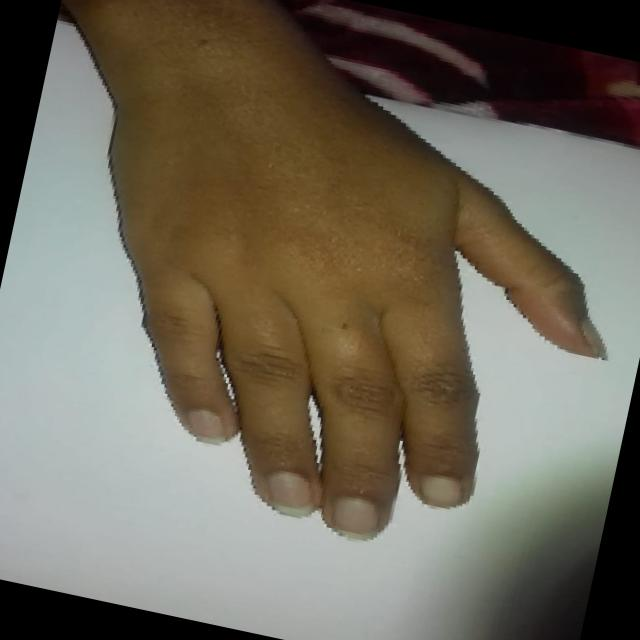Nail: (327, 494, 382, 539), (266, 469, 316, 516), (416, 473, 467, 507), (184, 407, 226, 443), (580, 315, 606, 359)
